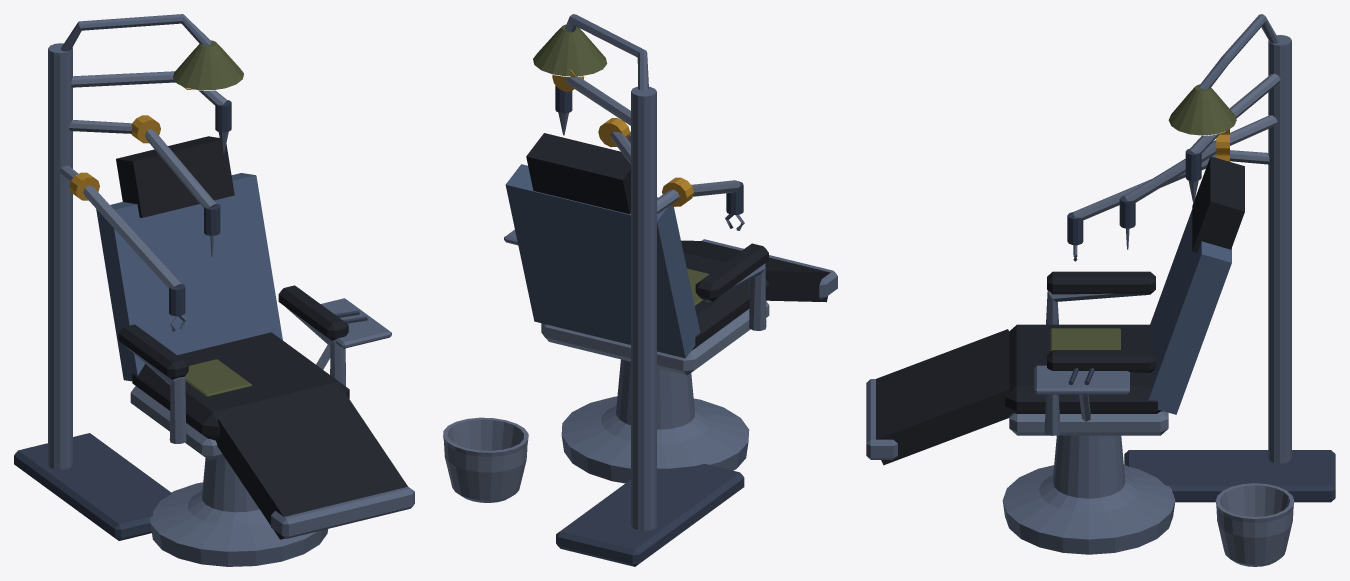
File: bw_targ_implant_chair.glb
3 views of the same model, side by side, from view 1: azimuth 30°, elevation 25°; view 2: azimuth 150°, elevation 25°; view 3: azimuth 270°, elevation 25° (orthographic). The views are drawn at different scales.
Visible parts, largest first — view 1: arm_pad.001, arm_pad.002, arm_pad.004, arm_pad.006, arm_pad.003, arm_pad.005, arm_pad.007; view 2: arm_pad.002, arm_pad.004, arm_pad.001, arm_pad.003, arm_pad.006, arm_pad.005, arm_pad.007; view 3: arm_pad.002, arm_pad.001, arm_pad.003, arm_pad.006, arm_pad.004, arm_pad.005.
Boxes of the visible parts, box(x1,y1,x2,y2) form: arm_pad.001: box(116, 136, 407, 539); arm_pad.002: box(48, 14, 414, 566); arm_pad.004: box(96, 173, 282, 381); arm_pad.006: box(14, 100, 367, 540); arm_pad.003: box(59, 71, 330, 460); arm_pad.005: box(173, 40, 251, 396); arm_pad.007: box(69, 86, 193, 200); arm_pad.002: box(504, 14, 837, 530); arm_pad.004: box(505, 164, 700, 358); arm_pad.001: box(526, 133, 830, 350); arm_pad.003: box(443, 76, 769, 502); arm_pad.006: box(555, 85, 744, 566); arm_pad.005: box(533, 24, 709, 305); arm_pad.007: box(552, 69, 693, 206); arm_pad.002: box(866, 14, 1291, 554); arm_pad.001: box(876, 156, 1244, 465); arm_pad.003: box(1009, 73, 1294, 566); arm_pad.006: box(1067, 149, 1335, 502); arm_pad.004: box(1148, 209, 1231, 414); arm_pad.005: box(1050, 84, 1236, 351).
Size of the model in its own units: 1.2 by 2.3 by 2.1.
